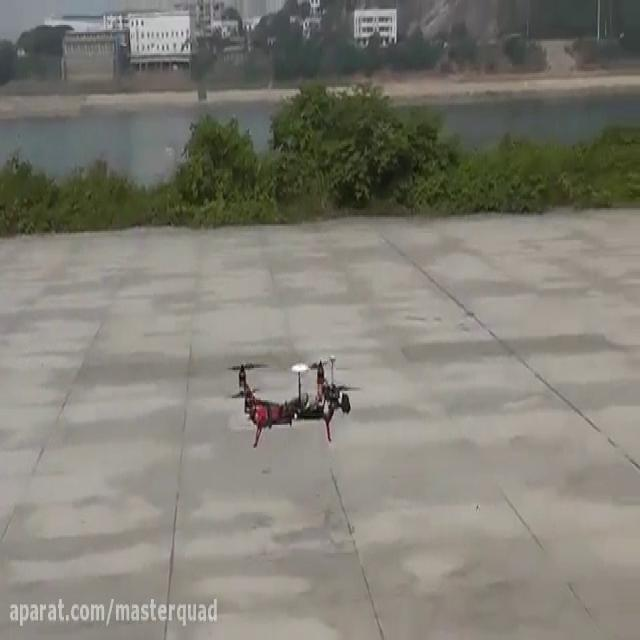drone: (218, 346, 362, 452)
